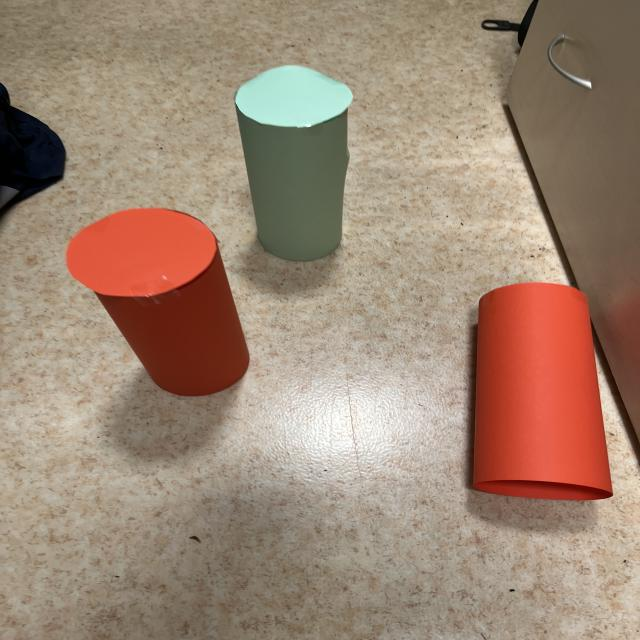meta: (234, 65, 353, 261)
przeszkoda: (66, 208, 249, 396), (474, 283, 611, 499)
